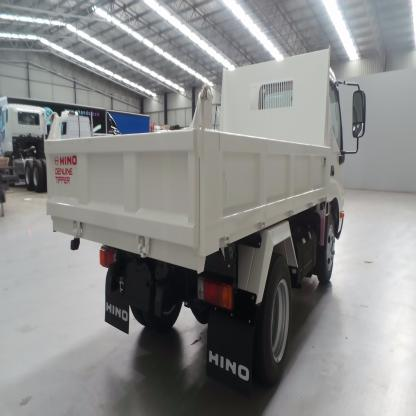dump_truck: (40, 44, 370, 413)
